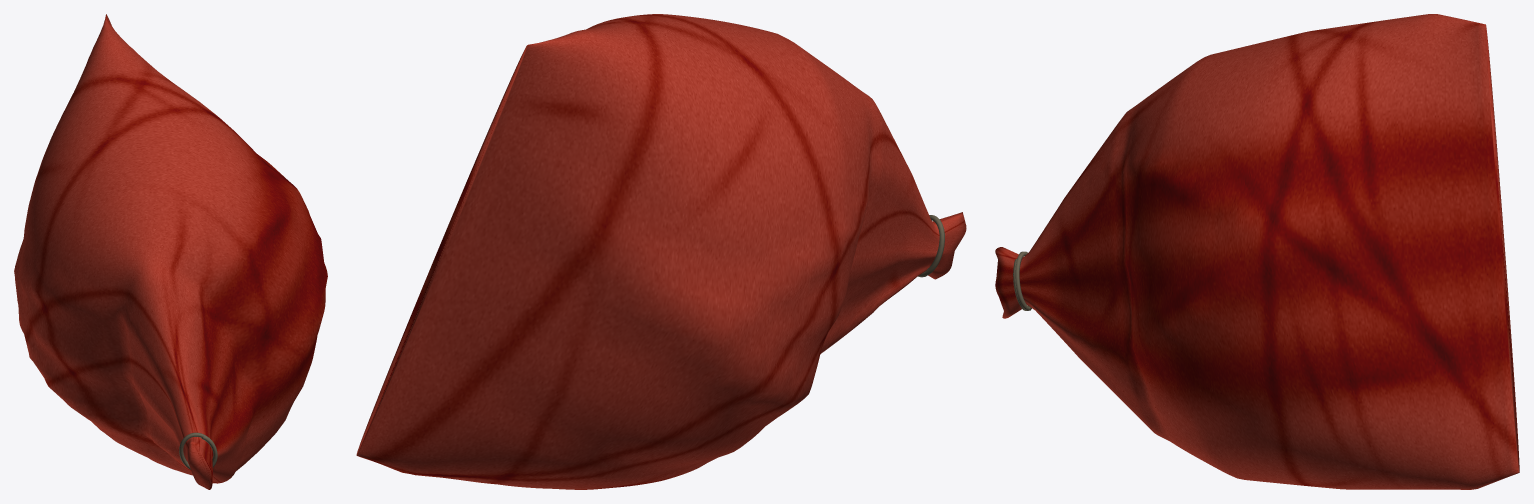
Rendered from peach_00_003.glb.
3 renders of one model, left to right at view 1: azimuth 30°, elevation 25°; view 2: azimuth 150°, elevation 25°; view 3: azimuth 270°, elevation 25°, orthographic. The views are drawn at different scales.
Parts seen in each view (by area): view 1: export_Tree00/shoot0_6_1/bag, export_Tree00/shoot0_6_1/bag/tie; view 2: export_Tree00/shoot0_6_1/bag; view 3: export_Tree00/shoot0_6_1/bag.
Boxes of the visible parts, bbox=[...] form: export_Tree00/shoot0_6_1/bag: bbox=[14, 14, 327, 489]; export_Tree00/shoot0_6_1/bag/tie: bbox=[179, 432, 217, 469]; export_Tree00/shoot0_6_1/bag: bbox=[356, 14, 966, 489]; export_Tree00/shoot0_6_1/bag: bbox=[995, 14, 1519, 489].
Size of the model in its own units: 0.0901 by 0.1221 by 0.1295.
Materials: 4 (1 with a texture image).
